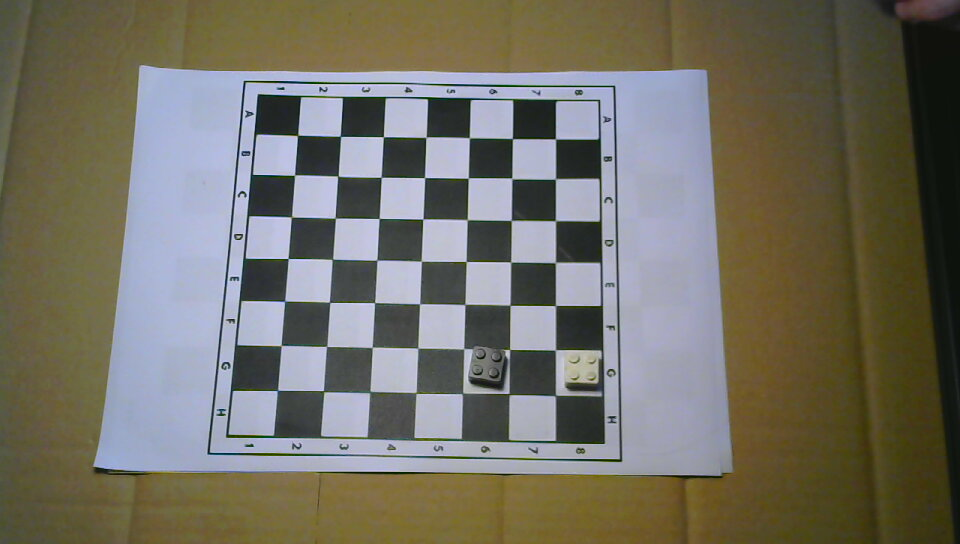bp: (466, 345, 508, 388)
wp: (562, 350, 602, 390)
